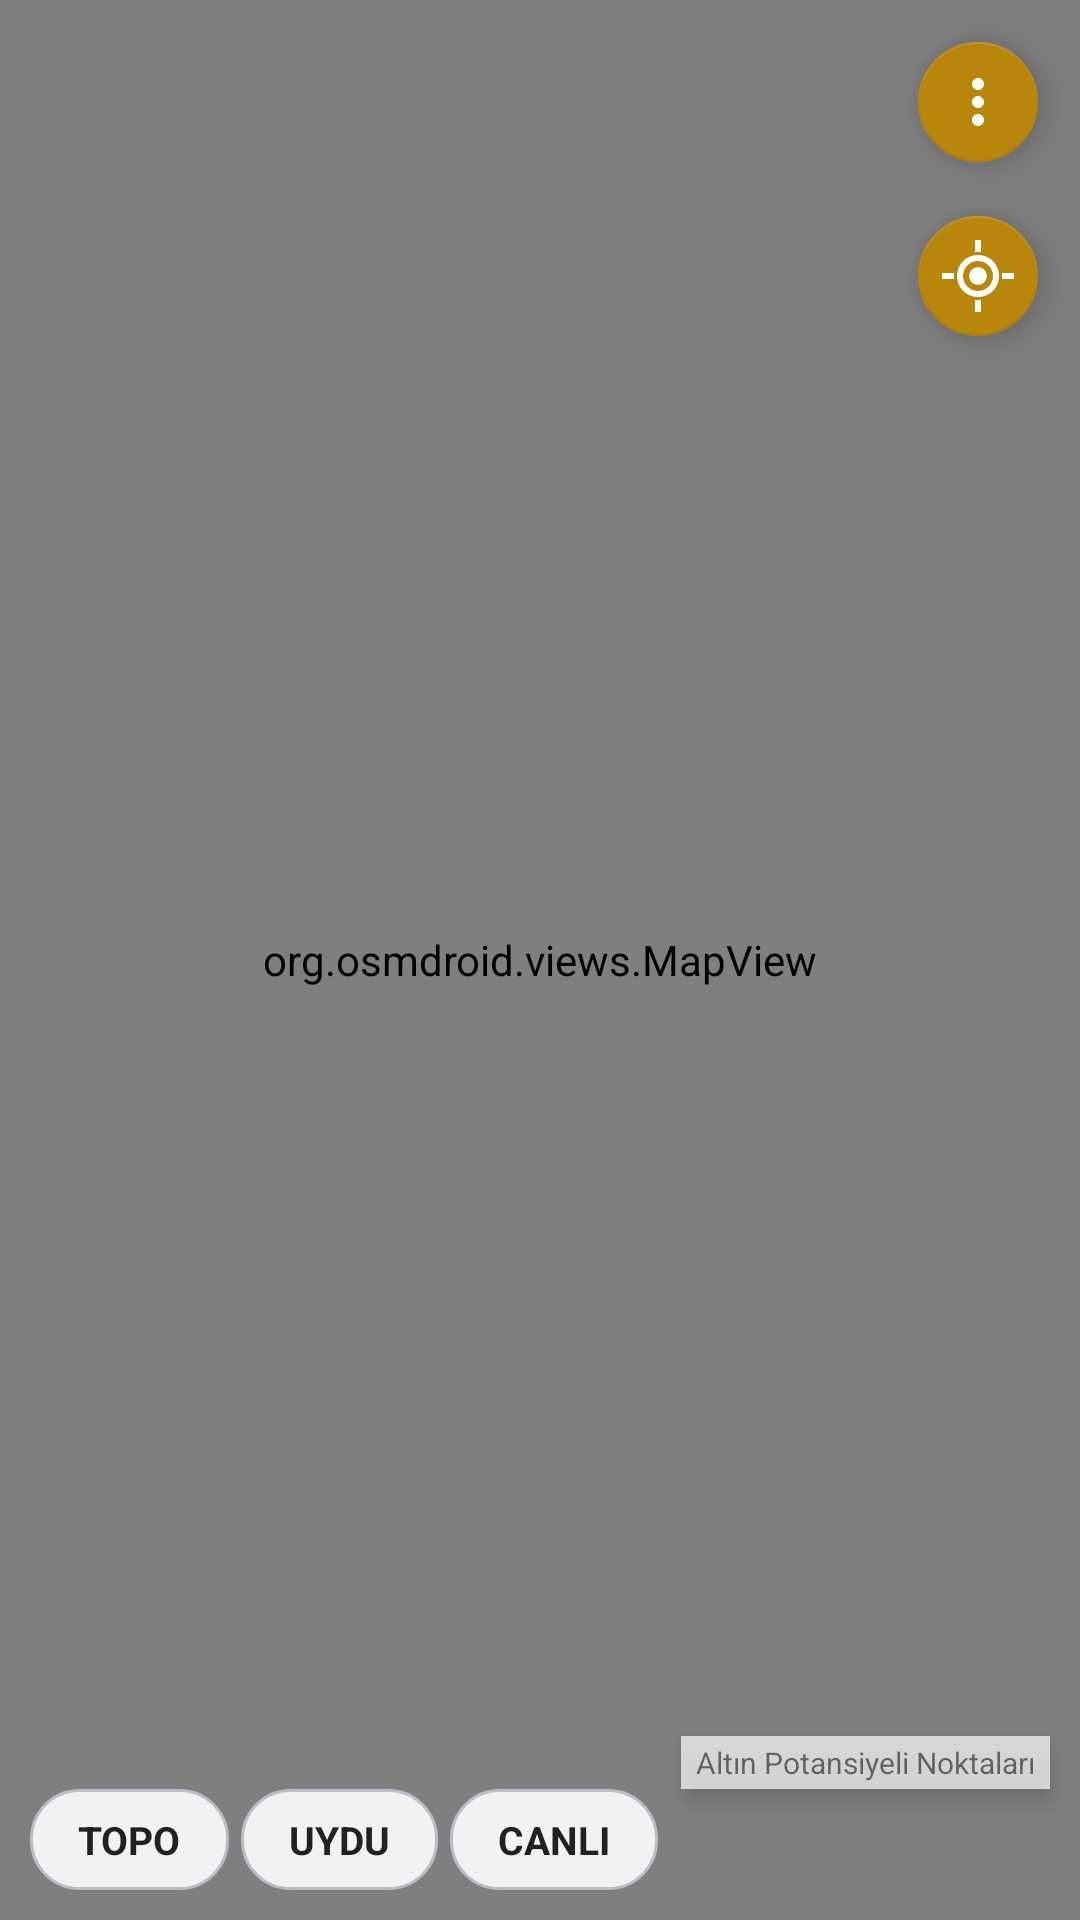

Where to tap for icons on this 1080 × 1920 app screen, as [x,y]:
Konumuma Merkeze Al: [978,276]
Menü: [978,102]
